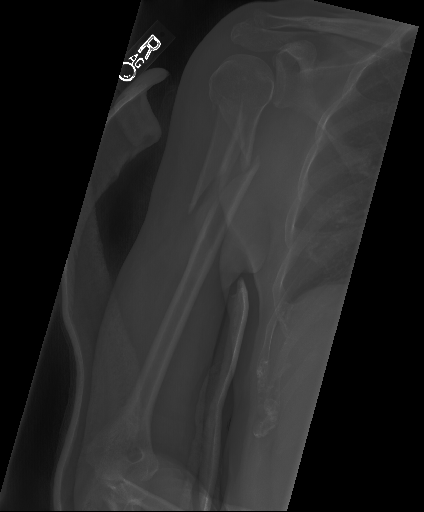fracture: (181, 144, 259, 247)
